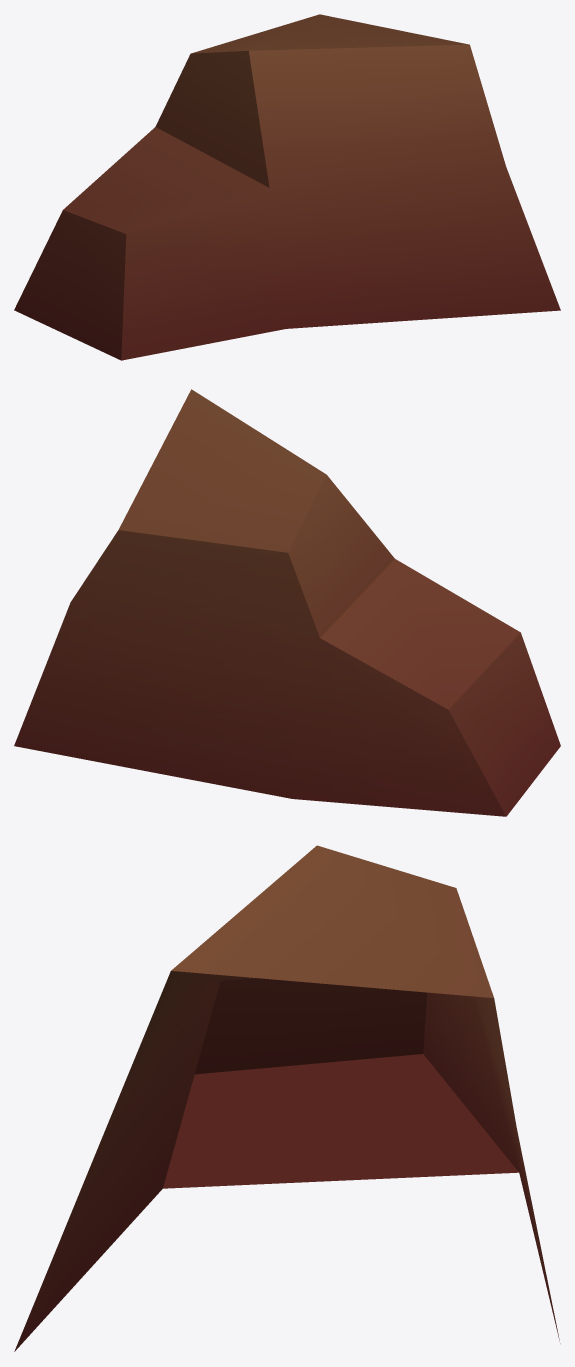
File: Mountain_medium.017.fbx
3 views of the same model, one above another, from view 1: azimuth 30°, elevation 25°; view 2: azimuth 150°, elevation 25°; view 3: azimuth 270°, elevation 25° (orthographic). The views are drawn at different scales.
Parts seen in each view (by area): view 1: Mountain_medium.017; view 2: Mountain_medium.017; view 3: Mountain_medium.017.
Part boxes in pixels (bbox=[...]): Mountain_medium.017: bbox=[14, 14, 560, 360]; Mountain_medium.017: bbox=[14, 389, 560, 816]; Mountain_medium.017: bbox=[14, 845, 560, 1351].
Size of the model in its own units: 15.52 by 8.57 by 12.02.
